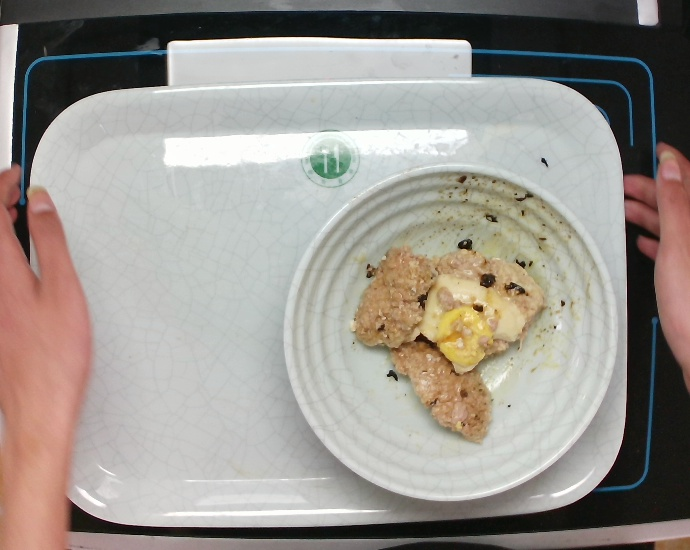JYsf-Da_Tang_Wan: (272, 155, 624, 506)
